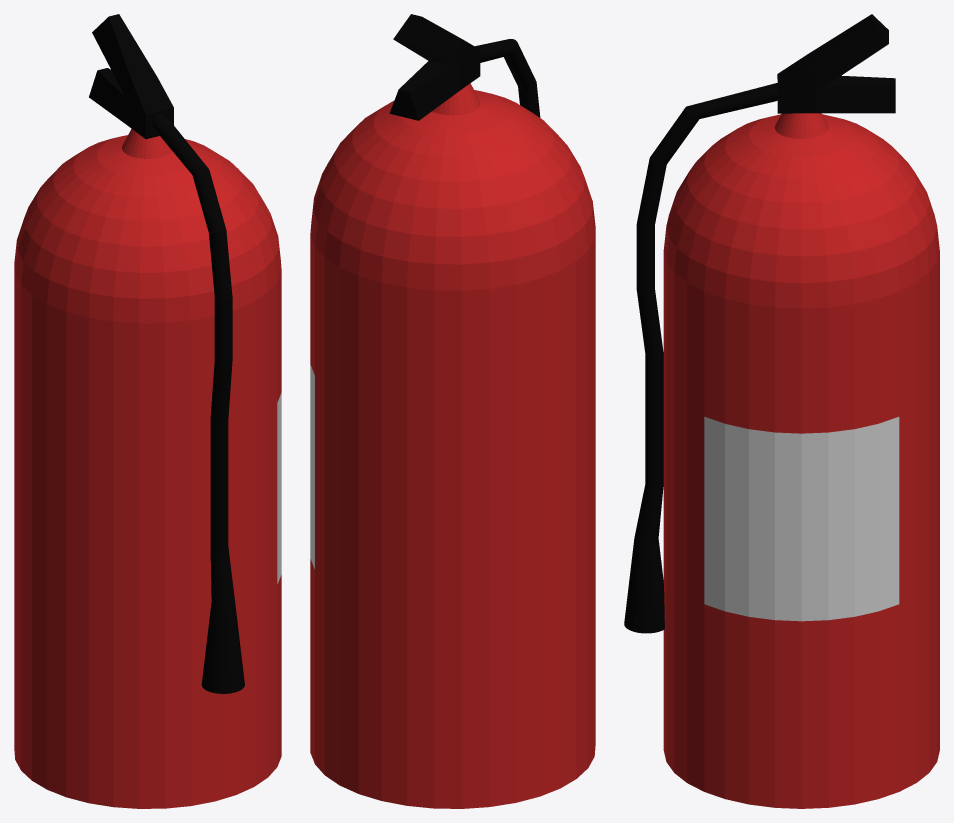
Rendered from Fire Extinguisher.fbx.
The picture shows the model from 3 angles, left to right: view 1: azimuth 30°, elevation 25°; view 2: azimuth 150°, elevation 25°; view 3: azimuth 270°, elevation 25°; orthographic projection. The views are drawn at different scales.
Parts seen in each view (by area): view 1: Cylinder, Sphere, Cylinder.001, Cube.004, Cube.002; view 2: Cylinder, Sphere, Cube.002, Cube.004, Cylinder.001; view 3: Cylinder, Sphere, Cylinder.001, Cube.004, Cube.002.
Boxes of the visible parts, bbox=[...] form: Cylinder: bbox=[14, 265, 281, 808]; Sphere: bbox=[14, 129, 281, 323]; Cylinder.001: bbox=[152, 113, 244, 693]; Cube.004: bbox=[92, 14, 173, 114]; Cube.002: bbox=[89, 68, 173, 139]; Cylinder: bbox=[310, 228, 595, 808]; Sphere: bbox=[310, 83, 595, 290]; Cube.002: bbox=[389, 50, 480, 120]; Cube.004: bbox=[393, 14, 479, 66]; Cylinder.001: bbox=[475, 39, 540, 117]; Cylinder: bbox=[663, 250, 939, 808]; Sphere: bbox=[663, 113, 939, 308]; Cylinder.001: bbox=[624, 83, 777, 633]; Cube.004: bbox=[777, 14, 888, 88]; Cube.002: bbox=[777, 75, 895, 113].
Bounding box in the file's own units: 75 × 220 × 85.75.
